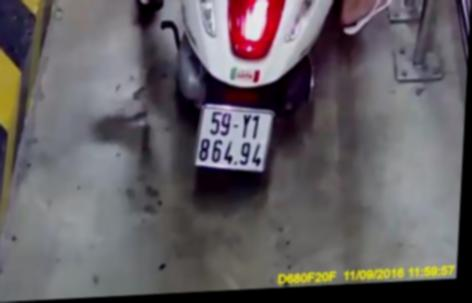License_Plate: (187, 96, 280, 185)
